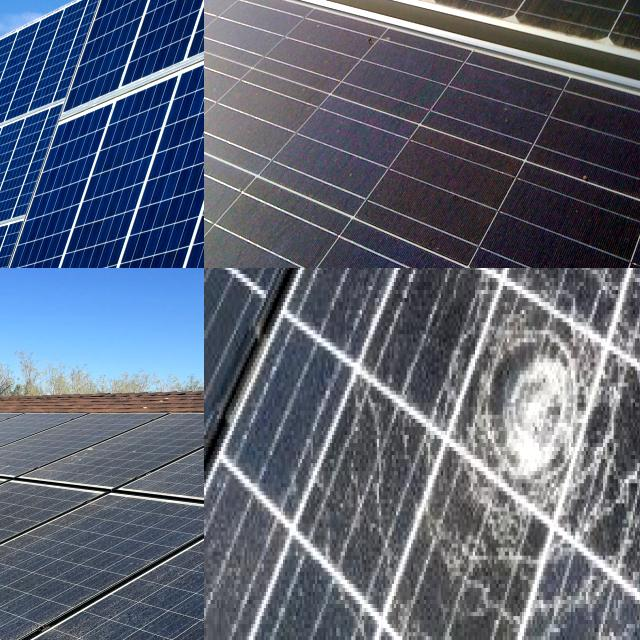crack: (0, 66, 204, 268)
dust: (0, 537, 104, 614), (0, 476, 55, 534)
hotspot: (479, 268, 598, 533), (456, 605, 628, 640), (613, 319, 640, 513)
